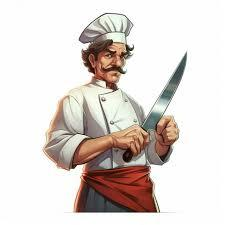Knife: (122, 50, 187, 162)
